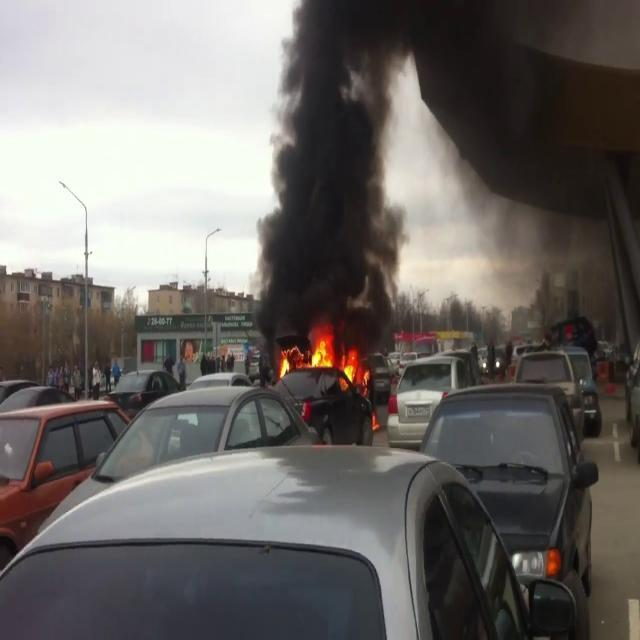Fire: (302, 324, 364, 388)
Smoke: (410, 0, 638, 309), (247, 1, 421, 338)
